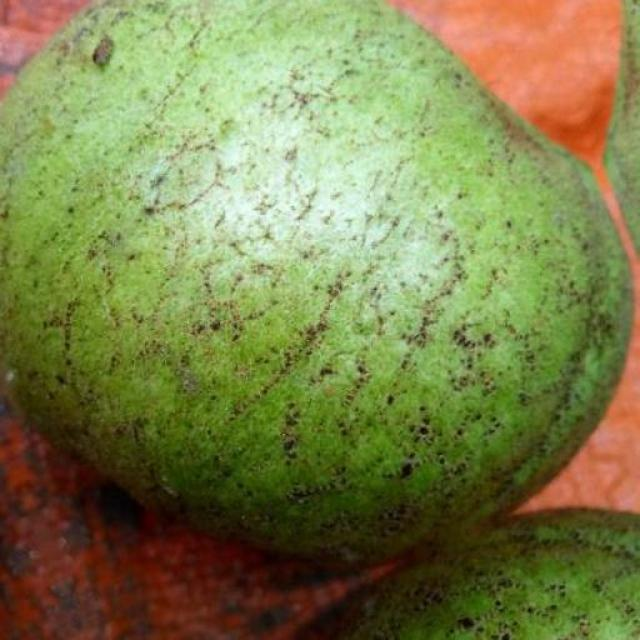Scab: (0, 0, 631, 558)
